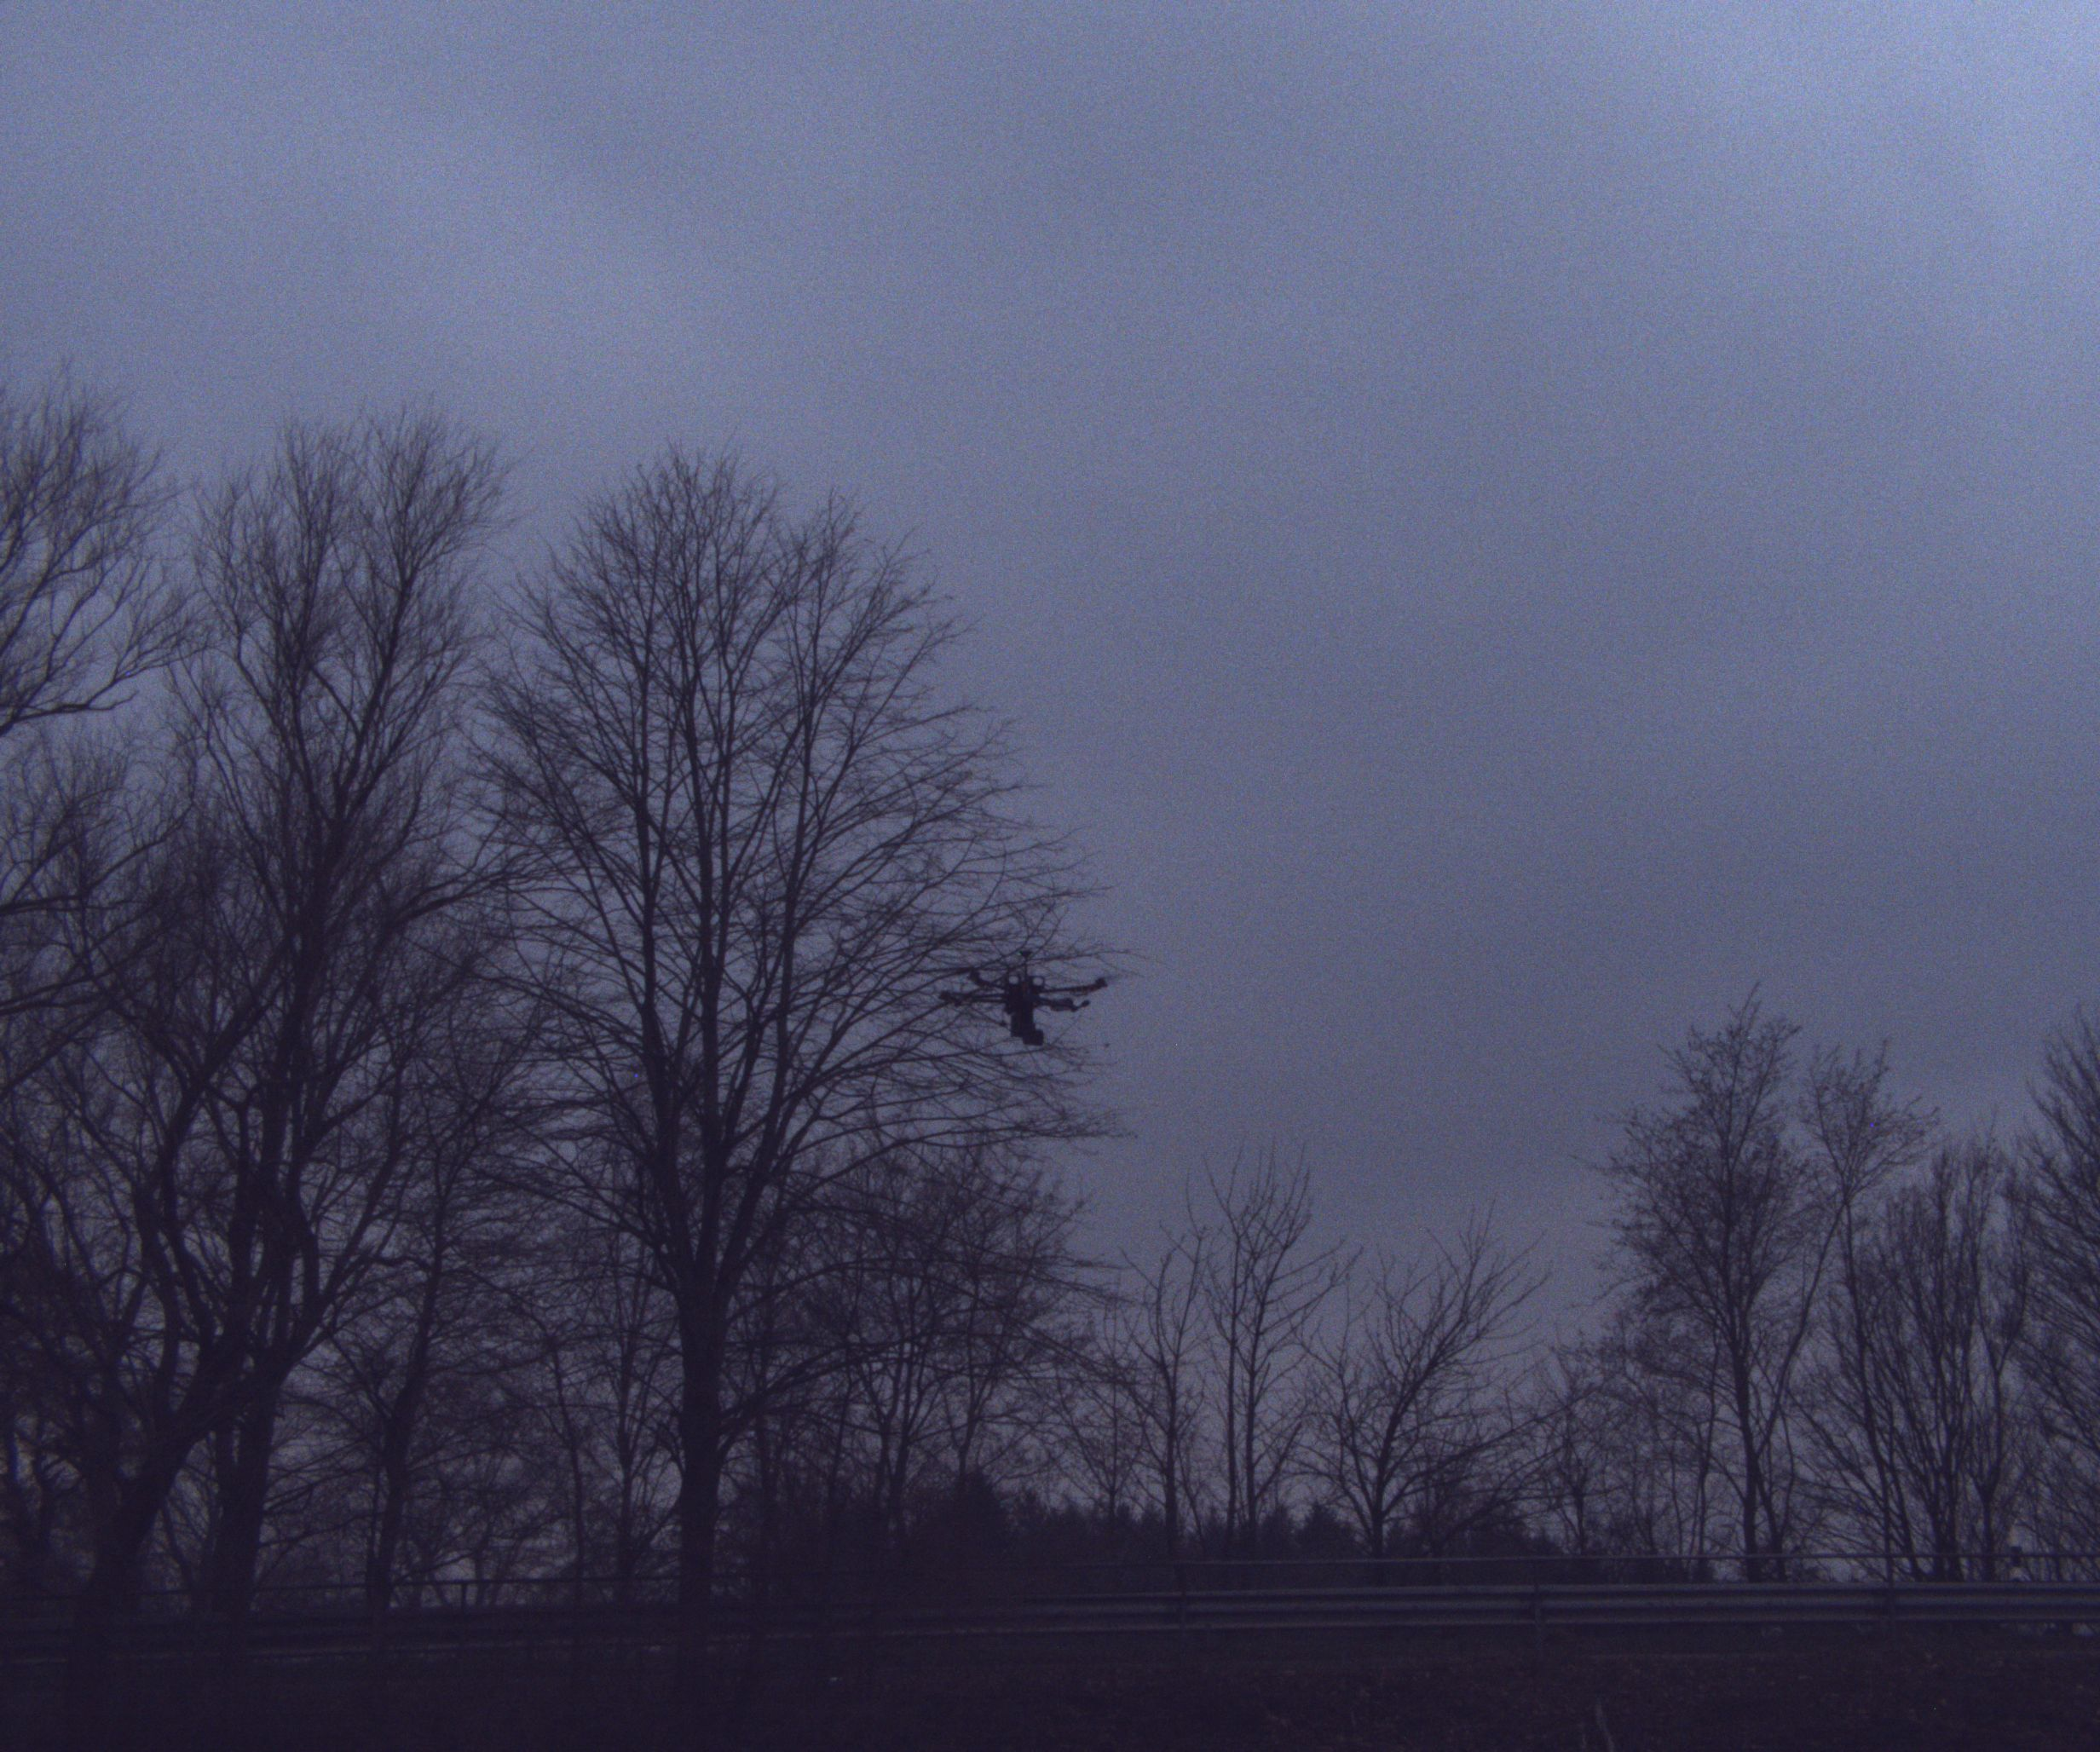Drohne: (944, 915, 1163, 1103)
